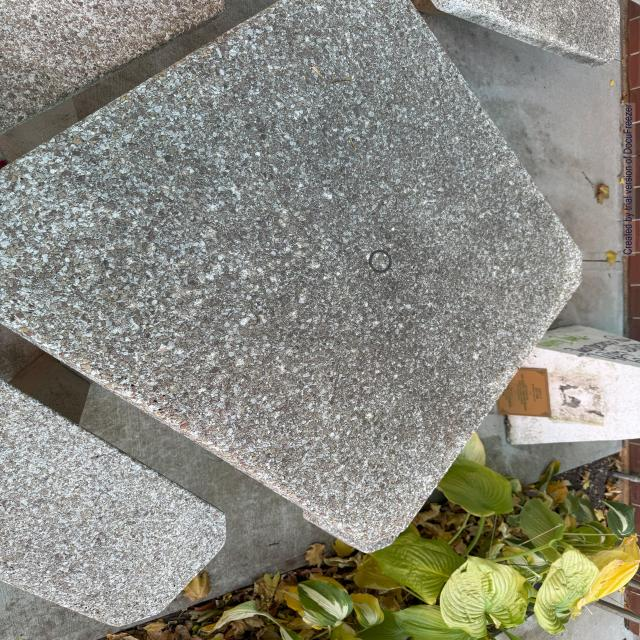Table: (2, 3, 597, 578), (18, 0, 101, 9)
